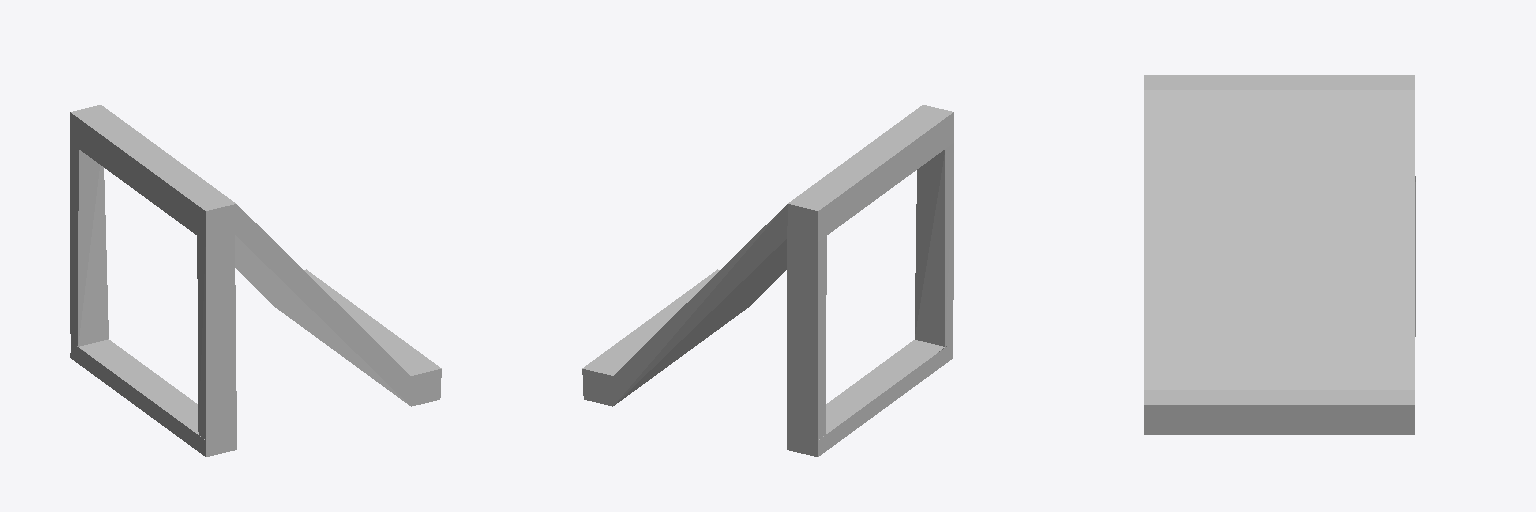
File: foundation_stairs_reduced_mesh.obj
3 views of the same model, side by side, from view 1: azimuth 30°, elevation 25°; view 2: azimuth 150°, elevation 25°; view 3: azimuth 270°, elevation 25° (orthographic).
Visible parts, largest first — view 1: Cube_Cube.001; view 2: Cube_Cube.001; view 3: Cube_Cube.001.
Part boxes in pixels (left/top/right/bottom): Cube_Cube.001: left=70, top=105, right=441, bottom=456; Cube_Cube.001: left=582, top=105, right=953, bottom=456; Cube_Cube.001: left=1144, top=75, right=1415, bottom=434.
Bounding box in the file's own units: 2.01 × 2.01 × 2.